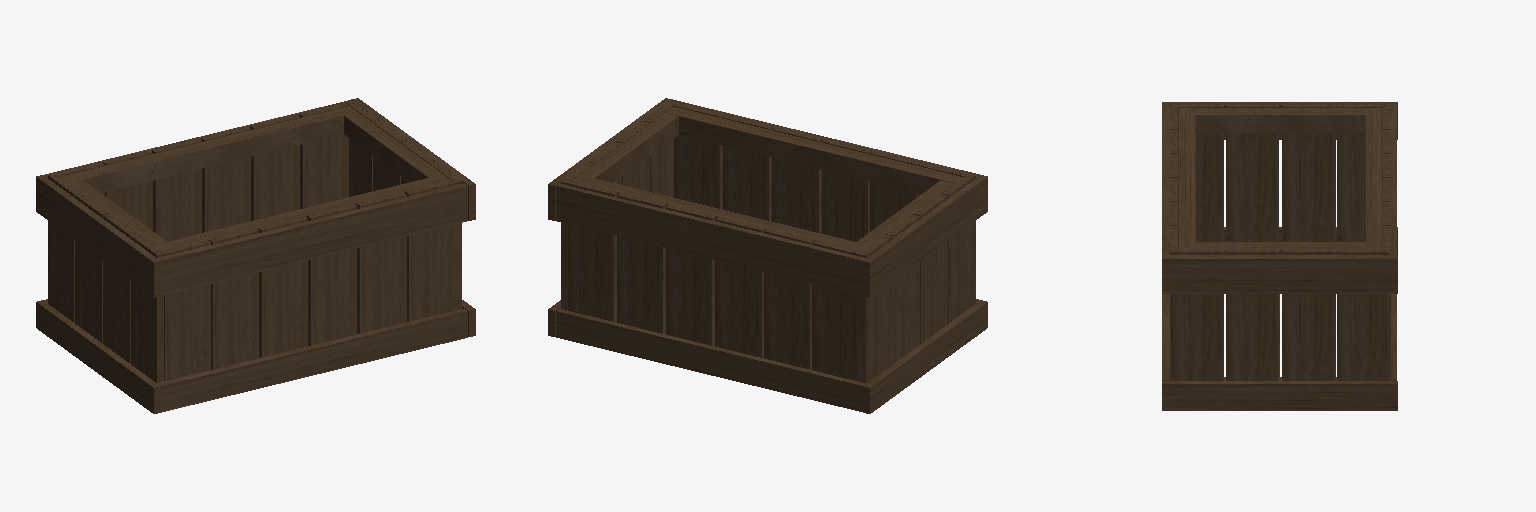
The picture shows the model from 3 angles: view 1: azimuth 30°, elevation 25°; view 2: azimuth 150°, elevation 25°; view 3: azimuth 270°, elevation 25°; orthographic projection.
Parts seen in each view (by area): view 1: Cube.004; view 2: Cube.004; view 3: Cube.004.
Boxes of the visible parts, x1=… form: Cube.004: x1=36, y1=98, x2=475, y2=413; Cube.004: x1=548, y1=98, x2=987, y2=413; Cube.004: x1=1162, y1=102, x2=1397, y2=410.
Bounding box in the file's own units: 0.8863 × 0.4099 × 0.5616.
1 materials, 1 textured.